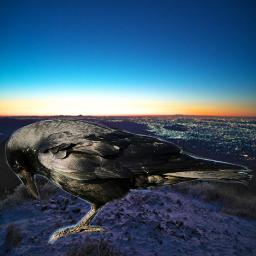Crow: (5, 118, 254, 244)
